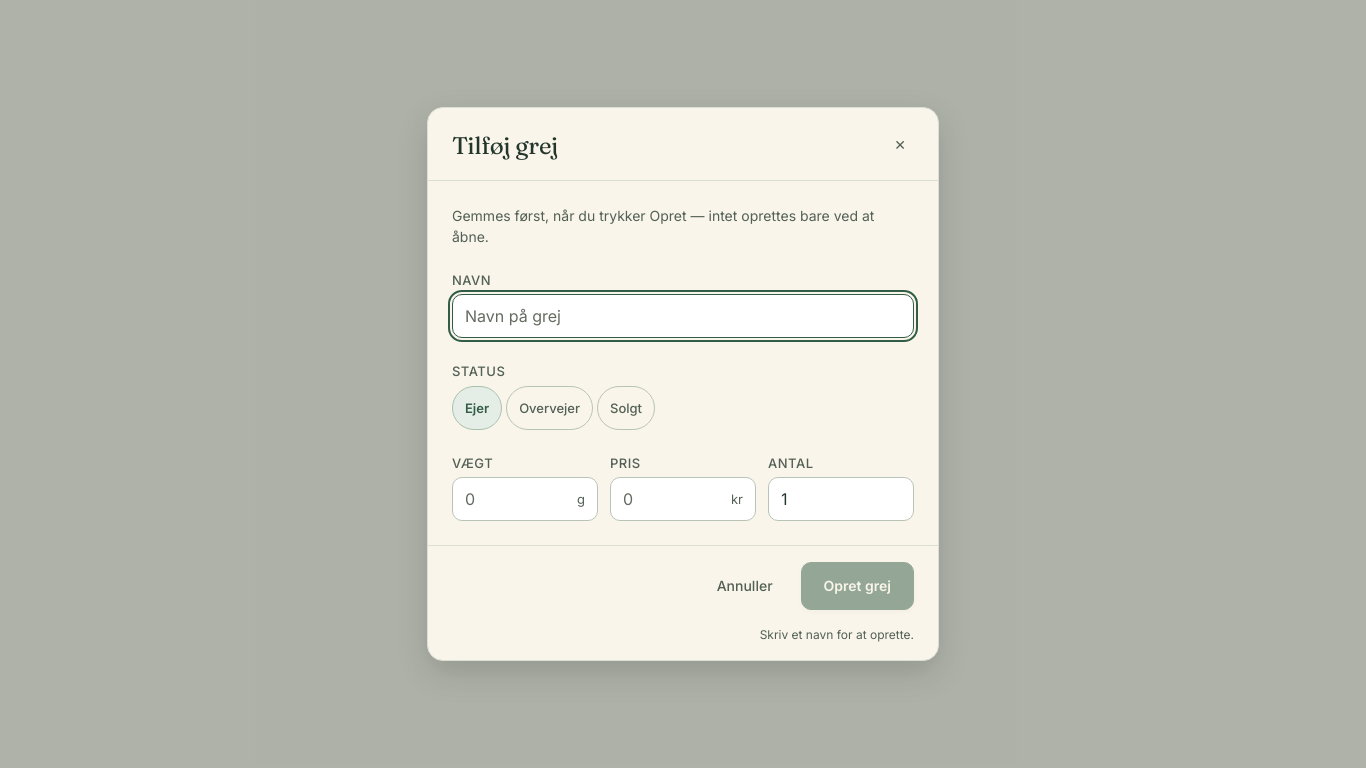
it: Opret er slået fra, indtil navnet er gyldigt › kræver kun navnet på grej — vægt og pris må være tomme
Expected: the button "Opret grej" is disabled, [800,562,914,610]
Type "Telt" into the field labelled "Navn" at point(683, 316), box [452,294,914,338]
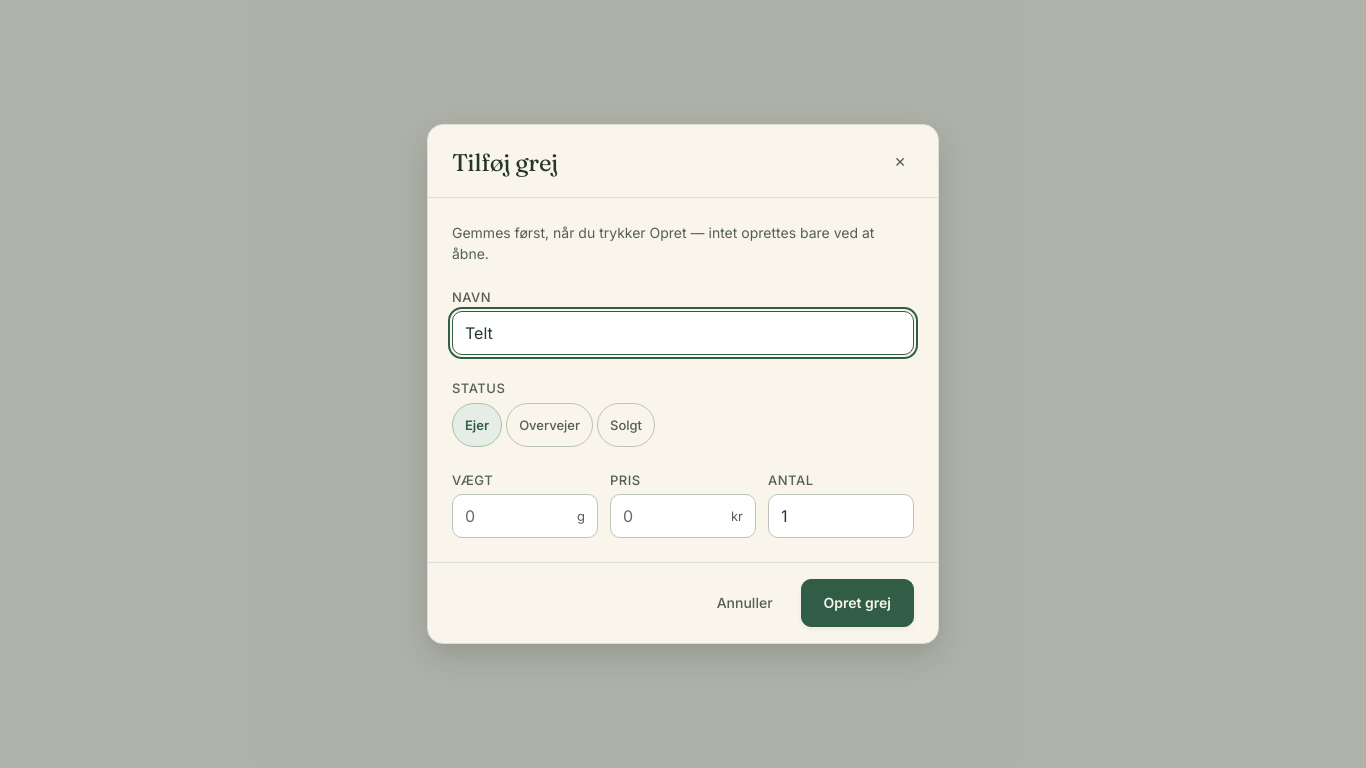
Now the button "Opret grej" is enabled, box [800,579,914,627]
